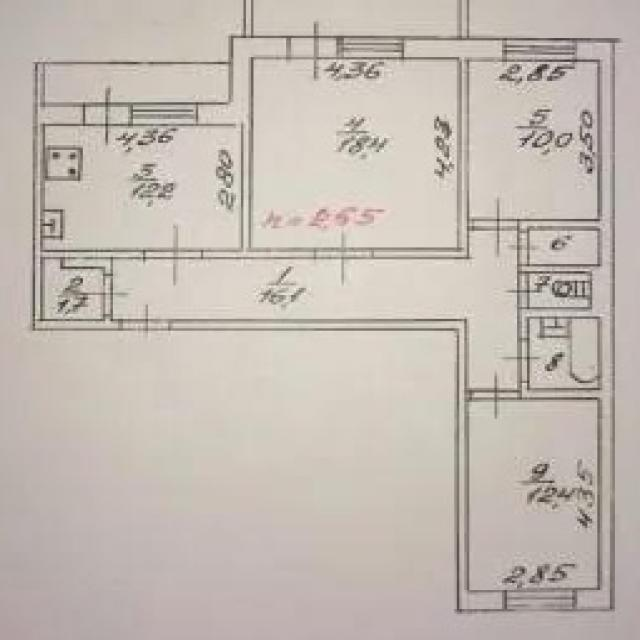Bathrooms: (530, 321, 597, 387), (531, 275, 589, 306)
Corridors: (114, 232, 516, 386), (47, 63, 228, 101), (45, 261, 102, 318), (531, 231, 598, 263)
Doors: (146, 223, 201, 287), (318, 227, 373, 286), (470, 196, 519, 258), (83, 85, 130, 148), (289, 21, 335, 82), (469, 369, 521, 419), (502, 341, 543, 381), (124, 303, 171, 336), (88, 277, 129, 313), (503, 274, 541, 307), (506, 232, 540, 264)
LBwalls: (198, 35, 288, 126), (404, 36, 502, 59), (458, 589, 504, 612), (579, 38, 617, 62), (577, 588, 615, 611), (42, 103, 83, 124)
Offices: (254, 59, 456, 246), (470, 402, 599, 588), (45, 126, 241, 248), (471, 62, 598, 218)
Walls: (171, 318, 469, 588), (515, 63, 615, 587), (33, 61, 146, 331), (374, 60, 469, 260), (202, 125, 316, 260), (62, 261, 113, 277), (458, 0, 469, 35), (244, 1, 253, 34)
Windows: (504, 589, 576, 612), (503, 38, 577, 60), (337, 36, 404, 59), (130, 102, 197, 124)
